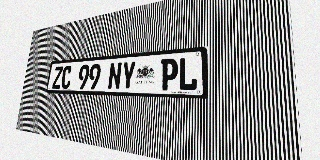9: (88, 63, 101, 89), (77, 64, 90, 89)
C: (60, 66, 73, 89)
L: (178, 56, 198, 91)
N: (107, 62, 122, 90)
P: (160, 58, 178, 91)
Y: (120, 61, 136, 90)
Z: (52, 66, 63, 89)
